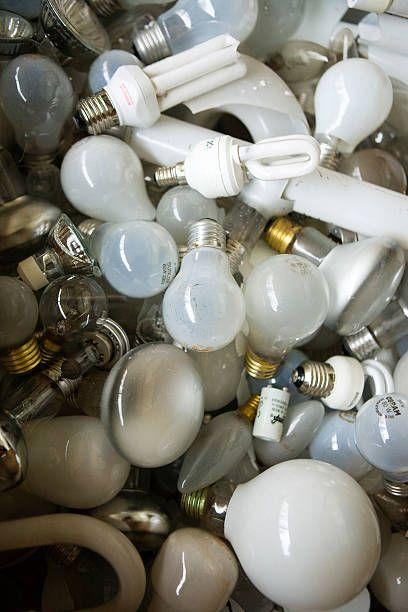light bulb: (106, 50, 316, 173), (225, 458, 380, 606), (173, 474, 285, 604), (100, 343, 204, 468), (161, 222, 245, 352), (164, 218, 246, 350), (1, 335, 110, 428), (20, 416, 130, 507), (167, 132, 323, 196), (240, 253, 329, 365), (316, 237, 404, 337), (58, 134, 155, 223), (311, 57, 393, 158), (131, 0, 258, 65), (145, 527, 241, 611), (0, 52, 75, 158), (2, 149, 65, 265), (176, 407, 258, 494), (15, 213, 104, 291), (91, 220, 180, 297), (89, 477, 173, 554), (180, 332, 247, 414), (252, 396, 325, 468), (308, 408, 378, 482), (37, 275, 108, 347), (40, 547, 122, 608), (354, 392, 408, 478), (39, 0, 110, 62), (181, 473, 253, 532), (235, 1, 309, 58), (249, 348, 317, 409), (294, 355, 364, 412), (155, 184, 221, 244), (344, 298, 405, 361), (263, 215, 339, 264), (0, 463, 54, 530), (368, 522, 407, 612), (101, 3, 168, 54), (267, 39, 337, 87), (338, 147, 405, 197), (371, 77, 408, 162), (0, 277, 41, 352), (87, 48, 142, 95), (74, 368, 118, 421), (23, 158, 67, 206), (136, 298, 175, 346)
